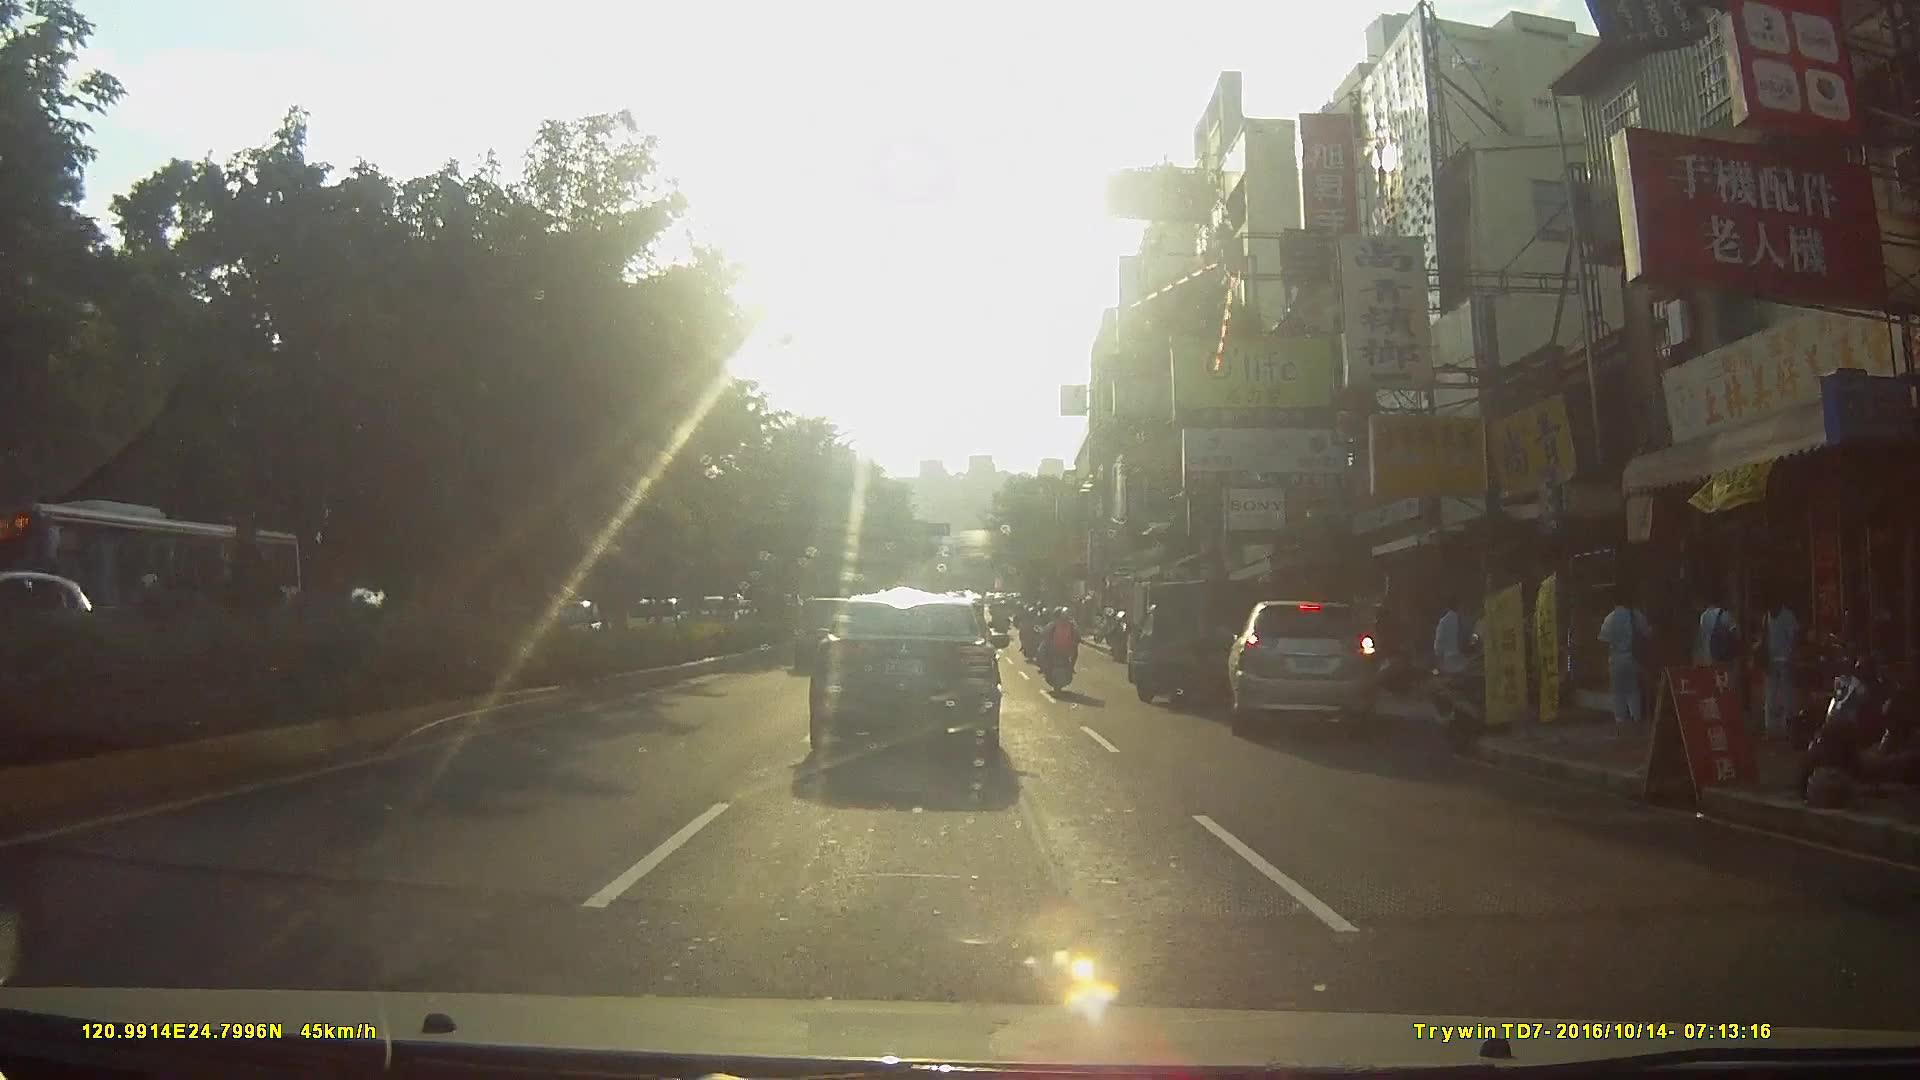pedestrian: (1756, 583, 1807, 745), (1699, 585, 1744, 755), (1603, 583, 1654, 739), (1432, 593, 1480, 717)
rider: (1038, 598, 1081, 694), (1020, 604, 1045, 662)
vehicle: (7, 496, 313, 665), (808, 593, 1029, 778), (1221, 589, 1404, 750), (1116, 568, 1251, 718)
